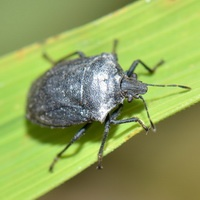insect: (26, 39, 190, 171), (115, 97, 150, 127)
